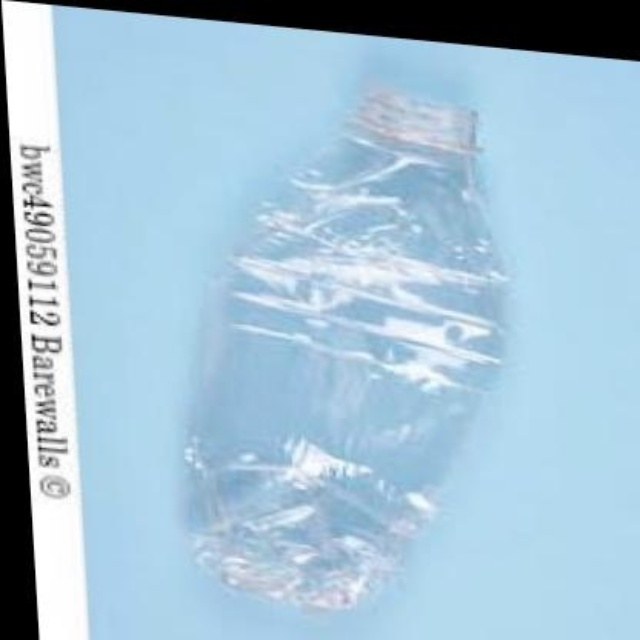trash: (185, 89, 503, 611)
